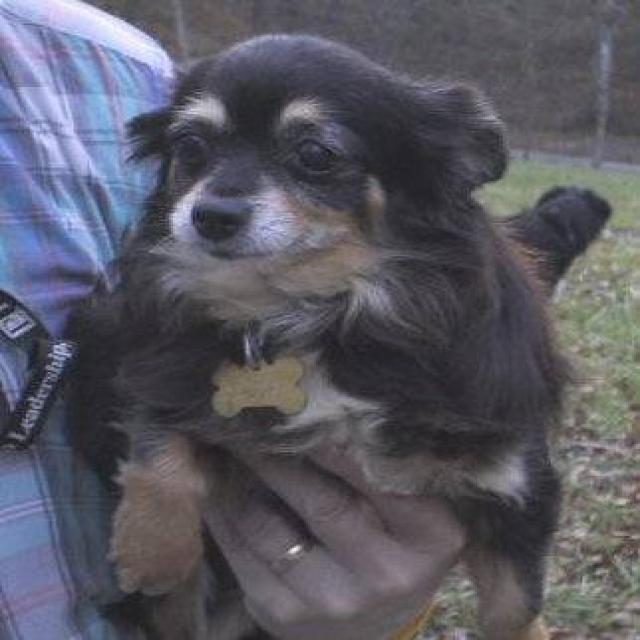dog: (58, 30, 612, 638)
